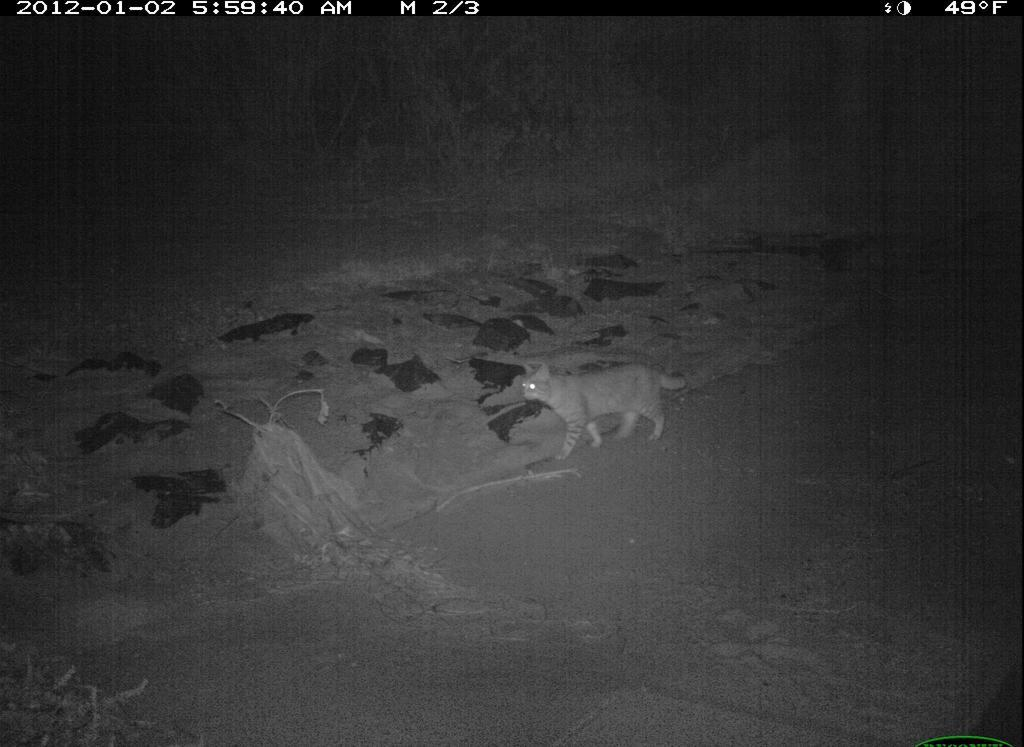cat: (509, 345, 708, 471)
